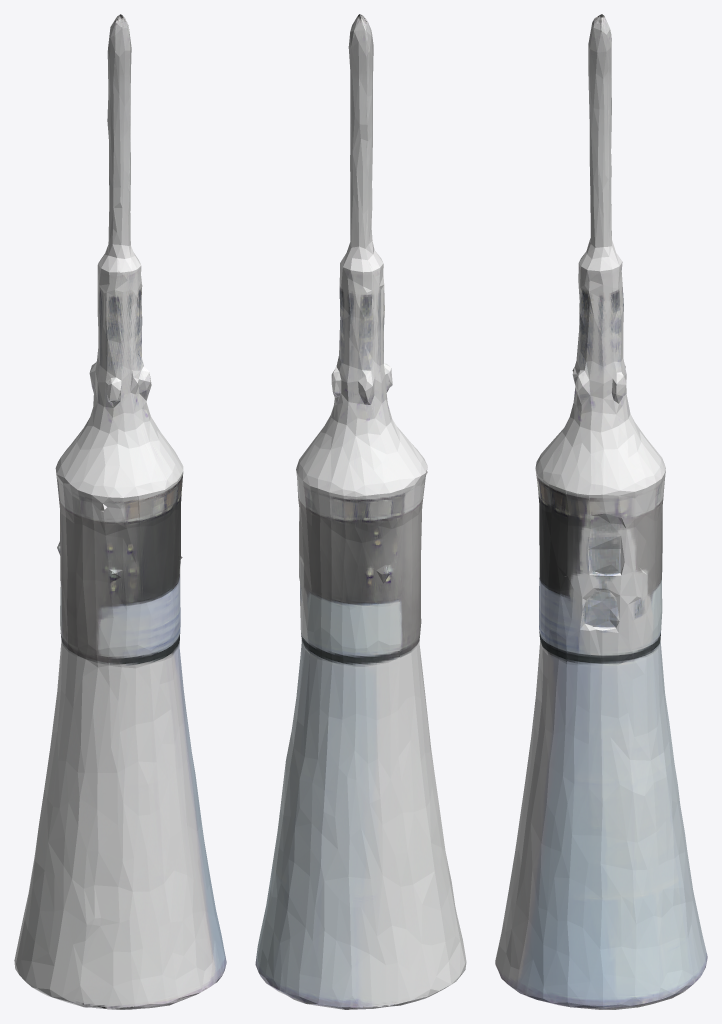
3 renders of one model, left to right at view 1: azimuth 30°, elevation 25°; view 2: azimuth 150°, elevation 25°; view 3: azimuth 270°, elevation 25°, orthographic.
Visible parts, largest first — view 1: world; view 2: world; view 3: world.
Boxes of the visible parts, x1,y1,x2,y2 form: world: [14, 14, 226, 1009]; world: [255, 14, 466, 1009]; world: [495, 14, 707, 1009].
Size of the model in its own units: 0.202 by 0.9975 by 0.2014.
1 material, 1 textured.
